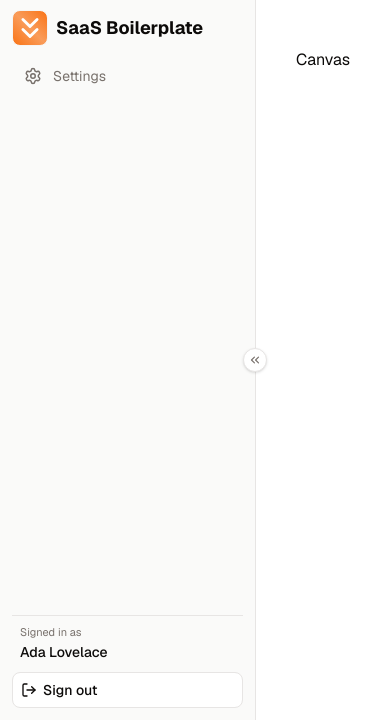
Test: DashboardShell › should report the rail's state to assistive technology
Click the button named "Collapse sidebar" at [255, 360], box x1=243 y1=348 x2=267 y2=372
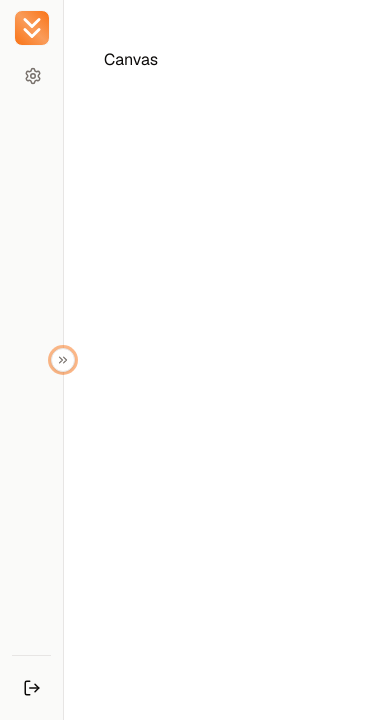
Expected: the button named "Expand sidebar" is collapsed, x1=51 y1=348 x2=75 y2=372
